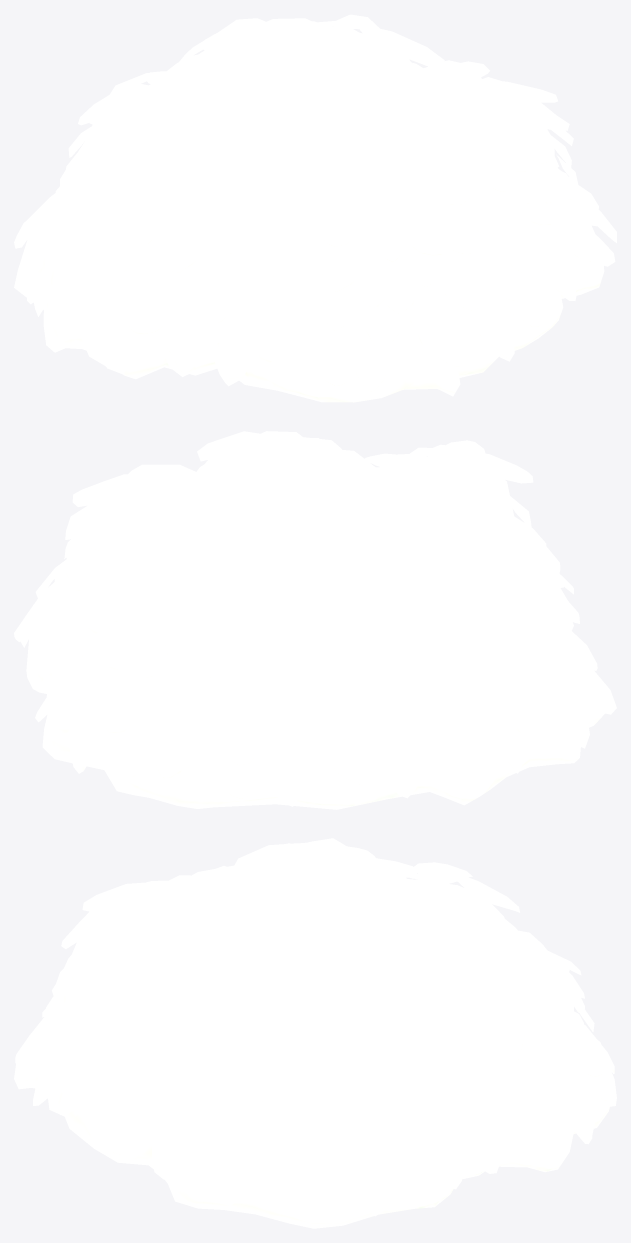
File: arbusto-verdejante.glb
3 renders of one model, top to bottom at view 1: azimuth 30°, elevation 25°; view 2: azimuth 150°, elevation 25°; view 3: azimuth 270°, elevation 25°, orthographic. The views are drawn at different scales.
Parts seen in each view (by area): view 1: mesh_node; view 2: mesh_node; view 3: mesh_node.
Part boxes in pixels (x1,y1,x2,y2): mesh_node: (14, 14, 616, 402); mesh_node: (14, 431, 616, 809); mesh_node: (14, 838, 616, 1228).
Size of the model in its own units: 1 by 0.457 by 0.998.
Materials: 1 (1 with a texture image).
